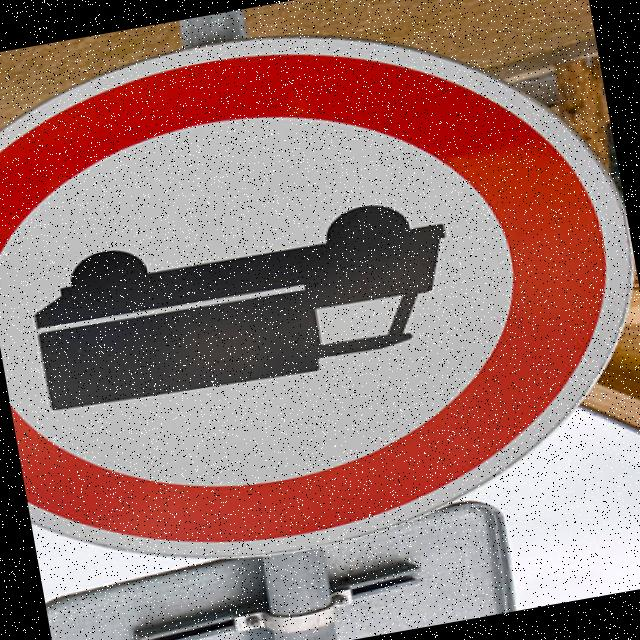do_not_enter: (0, 0, 640, 602)
